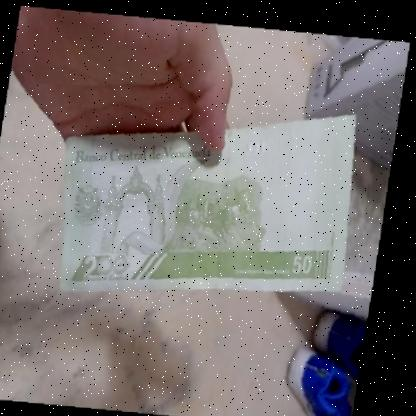fifty-back-vef: (53, 96, 364, 301)
